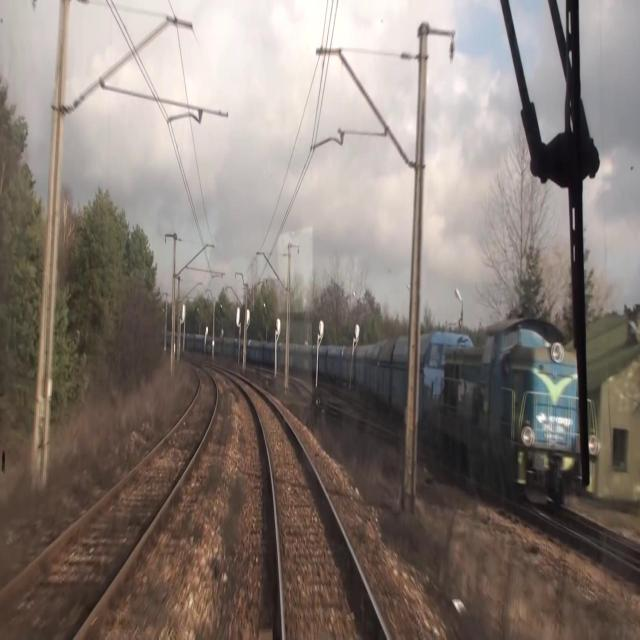rail-track: (0, 369, 215, 639), (239, 380, 386, 639)
